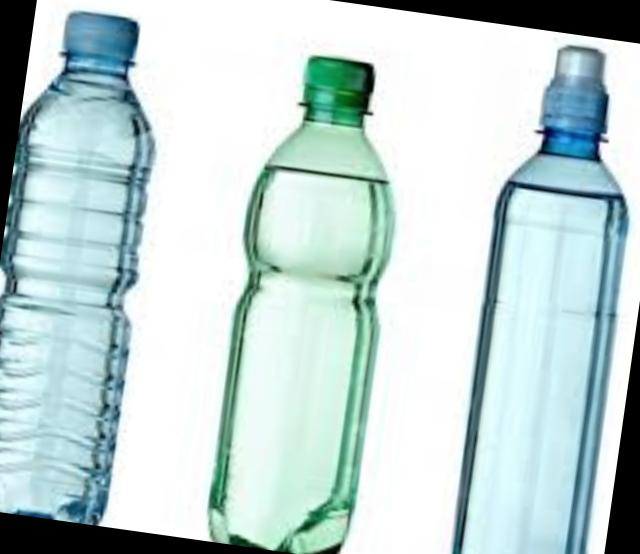plastic: (215, 52, 396, 554), (457, 42, 631, 554), (0, 7, 157, 524)
